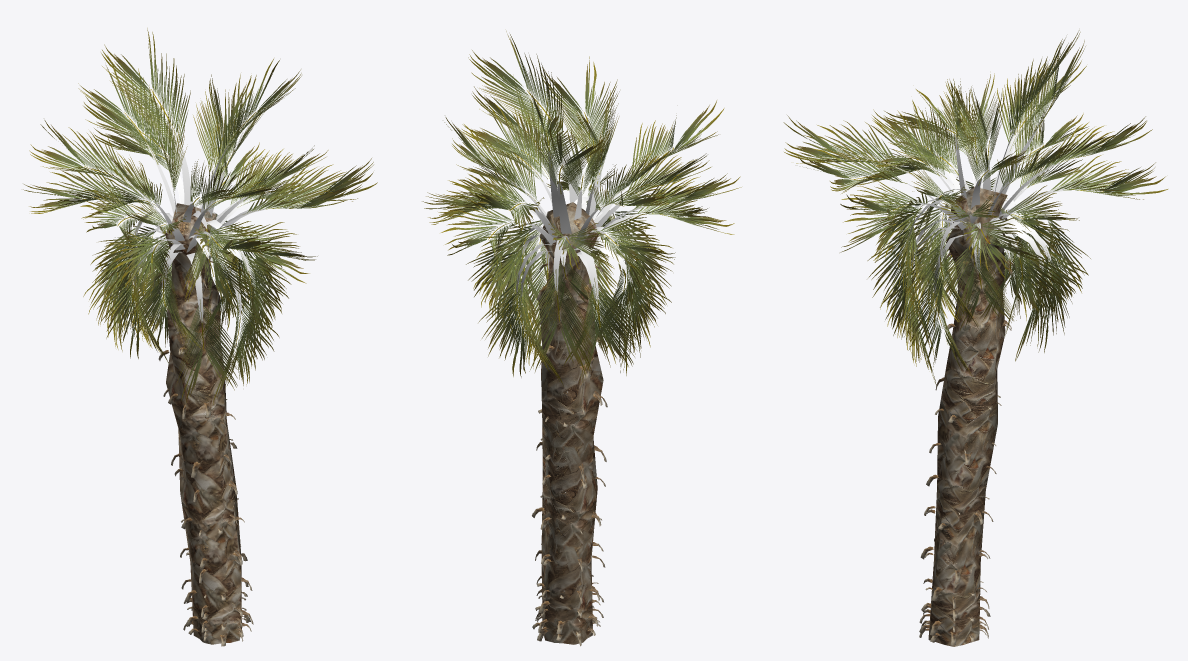
File: palm2.obj
The picture shows the model from 3 angles, left to right: view 1: azimuth 30°, elevation 25°; view 2: azimuth 150°, elevation 25°; view 3: azimuth 270°, elevation 25°; orthographic projection. The views are drawn at different scales.
Visible parts, largest first — view 1: curly palm leaf, palm07, object 2, barkpalm; view 2: curly palm leaf, palm07, object 2, barkpalm; view 3: curly palm leaf, palm07, object 2, barkpalm.
Part boxes in pixels (x1,y1,x2,y2): curly palm leaf: (23, 28, 377, 404); palm07: (165, 203, 241, 644); object 2: (118, 122, 279, 322); barkpalm: (152, 260, 253, 646); curly palm leaf: (422, 31, 741, 386); palm07: (539, 202, 603, 644); object 2: (506, 120, 651, 301); barkpalm: (532, 263, 607, 646); curly palm leaf: (783, 30, 1167, 384); palm07: (928, 186, 1007, 646); object 2: (885, 119, 1065, 299); barkpalm: (919, 251, 1018, 645).
Size of the model in its own units: 137 by 269 by 159.
Materials: 4 (3 with a texture image).
